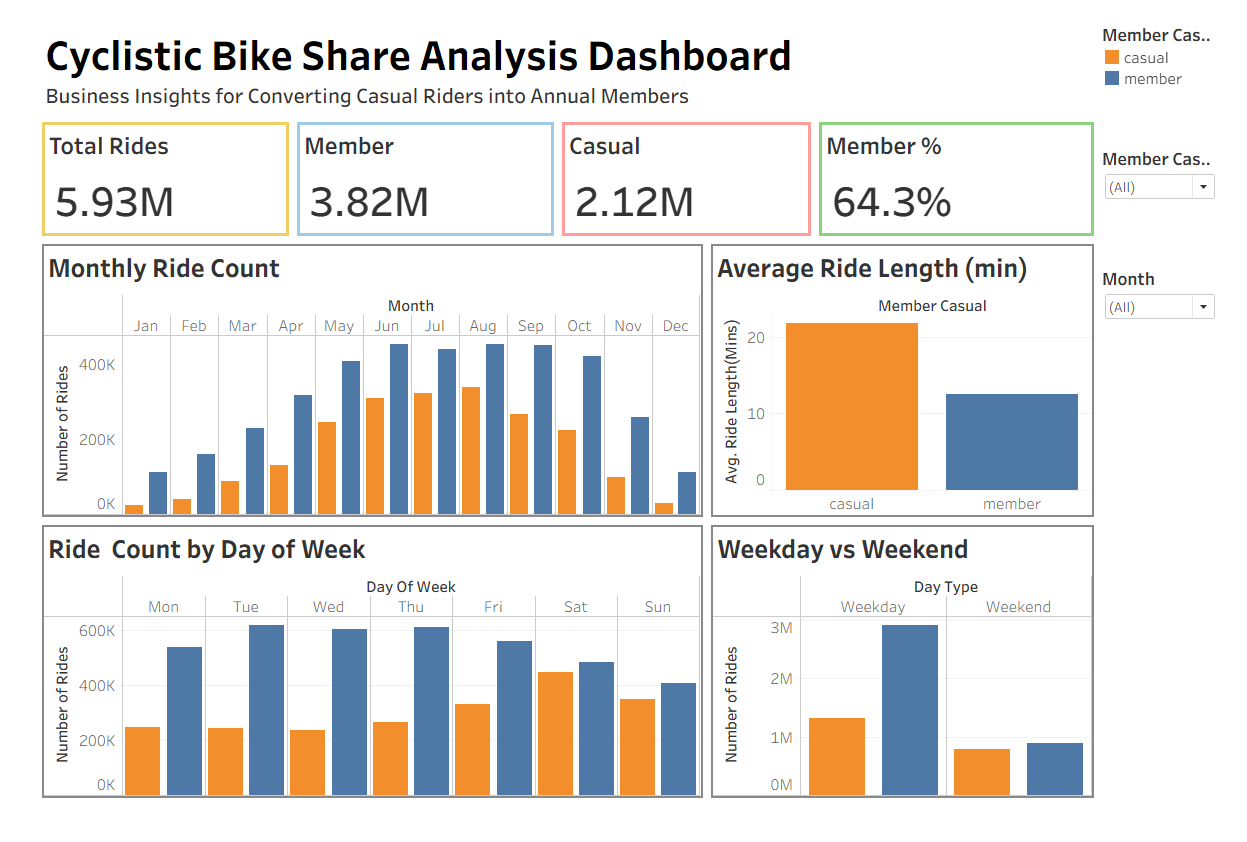

Layout of this report page (visuals, bound fields, positions):
{"tool":"tableau","page":{"name":"Dashboard 1","canvas":[1200,800],"ordinal":0},"visuals":[{"type":"text","box":[8,8,1060,100]},{"type":"legend","title":"Monthly Ride Count","param":"[federated.0t9r60617wnb5r1elsbv509lvhdo].[none:member_casual:nk]","box":[1068,8,124,124]},{"type":"worksheet","title":"KPI - Total Rides","mark":"Text","box":[8,108,255,122]},{"type":"worksheet","title":"KPI - Member Rides","mark":"Text","box":[263,108,265,122]},{"type":"worksheet","title":"KPI - Casual Rides","mark":"Text","box":[528,108,257,122]},{"type":"worksheet","title":"KPI - Member %","mark":"Text","box":[785,108,283,122]},{"type":"filter","title":"Monthly Ride Count","param":"[federated.0t9r60617wnb5r1elsbv509lvhdo].[none:member_casual:nk]","box":[1068,132,124,120]},{"type":"worksheet","title":"Monthly Ride Count","mark":"Automatic","rows":["ride_id"],"cols":["month","member_casual"],"box":[8,230,668.7,281]},{"type":"worksheet","title":"Average Ride Length","mark":"Automatic","rows":["ride_length"],"cols":["member_casual"],"box":[676.7,230,391.3,281]},{"type":"filter","title":"Monthly Ride Count","param":"[federated.0t9r60617wnb5r1elsbv509lvhdo].[none:month:nk]","box":[1068,252,124,64]},{"type":"worksheet","title":"Ride Count by Day","mark":"Automatic","rows":["ride_id"],"cols":["day_of_week","member_casual"],"box":[8,511,668.7,281]},{"type":"worksheet","title":"Weekday vs Weekend","mark":"Automatic","rows":["ride_id"],"cols":["day_type","member_casual"],"box":[676.7,511,391.3,281]}]}

Visuals, with their boxes in screenshot pixels (x1, y1, x2, y2), scaled from the page's 1200x800 canvas onto the 1247x842 screenshot:
text: BBox(8, 8, 1110, 114)
"Monthly Ride Count" legend: BBox(1110, 8, 1239, 139)
"KPI - Total Rides" worksheet (Text marks): BBox(8, 114, 273, 242)
"KPI - Member Rides" worksheet (Text marks): BBox(273, 114, 549, 242)
"KPI - Casual Rides" worksheet (Text marks): BBox(549, 114, 816, 242)
"KPI - Member %" worksheet (Text marks): BBox(816, 114, 1110, 242)
"Monthly Ride Count" filter: BBox(1110, 139, 1239, 265)
"Monthly Ride Count" worksheet: BBox(8, 242, 703, 538)
"Average Ride Length" worksheet: BBox(703, 242, 1110, 538)
"Monthly Ride Count" filter: BBox(1110, 265, 1239, 333)
"Ride Count by Day" worksheet: BBox(8, 538, 703, 834)
"Weekday vs Weekend" worksheet: BBox(703, 538, 1110, 834)
